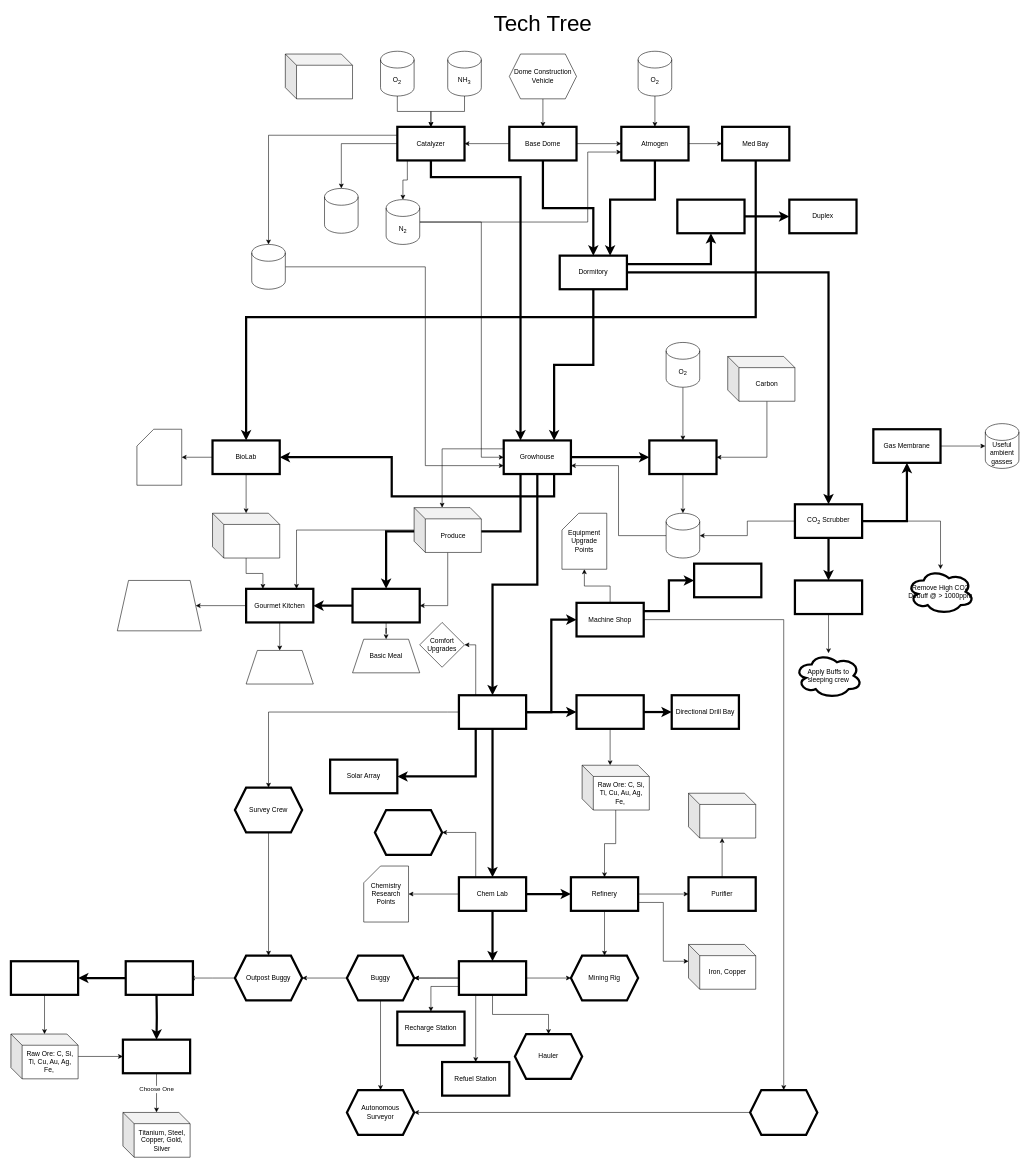
The diagram is 1029 pixels wide and 1167 high, and some of its shapes have lost their labels. Here are the shapes that lost their labels. From the top down, the centre of each, then its label:
(x=319, y=76): Aluminum, Copper, Gold, Silver
(x=341, y=210): H 2
(x=710, y=216): Apartments
(x=268, y=266): H 2 O
(x=159, y=457): Biology Research Points
(x=682, y=457): Carbon Oxidation Chamber
(x=246, y=535): Biofabricated Meat
(x=683, y=535): CO 2
(x=727, y=580): Geothermal Array
(x=828, y=597): Infuser
(x=159, y=605): "Home-cooked" Meal (more Joy + Comfort)
(x=386, y=605): Kitchen
(x=279, y=667): Filling Meal (more energy)
(x=492, y=712): Manufacturing Bay
(x=610, y=712): Drill Bay
(x=408, y=832): EV option for all verhicles
(x=722, y=815): Titanium, Gold, Silver
(x=44, y=978): Mine
(x=159, y=978): Outpost
(x=492, y=978): Vehicle Bay
(x=156, y=1056): Field Refinery
(x=783, y=1112): Autonomous Helper
